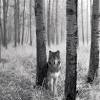Lobo: (39, 46, 64, 96)
